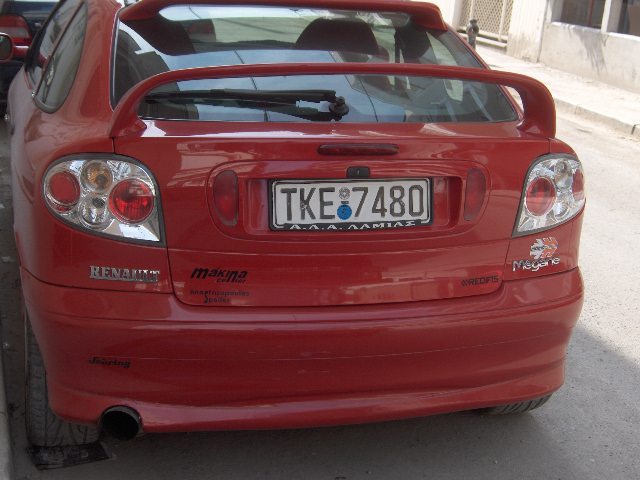licenseplate: (270, 176, 432, 225)
